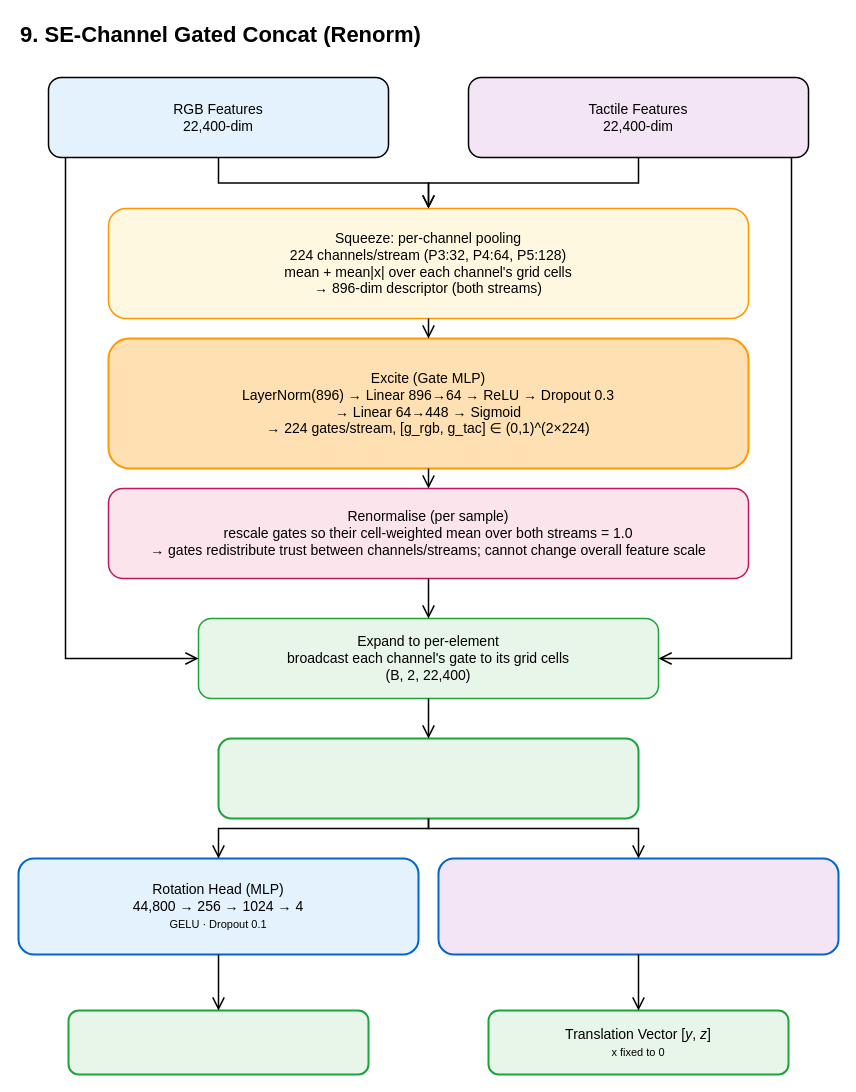
Some shapes in this 856 by 1092 pixel diagram are drawn without their labels. The shapes that lost their labels are listed below. From the top down, each one's box as (x1, y1, x2, y2) in pixels, then its label:
(217, 737, 639, 819): [g_rgb⊙RGB | g_tac⊙Tactile] 44,800-dim
(437, 857, 839, 955): Translation Head (MLP) 44,800 → 1024 → 1024 → 16 → 2 GELU · Dropout 0.1
(67, 1009, 369, 1075): Quaternion q L2-normalised, ℝ⁴
